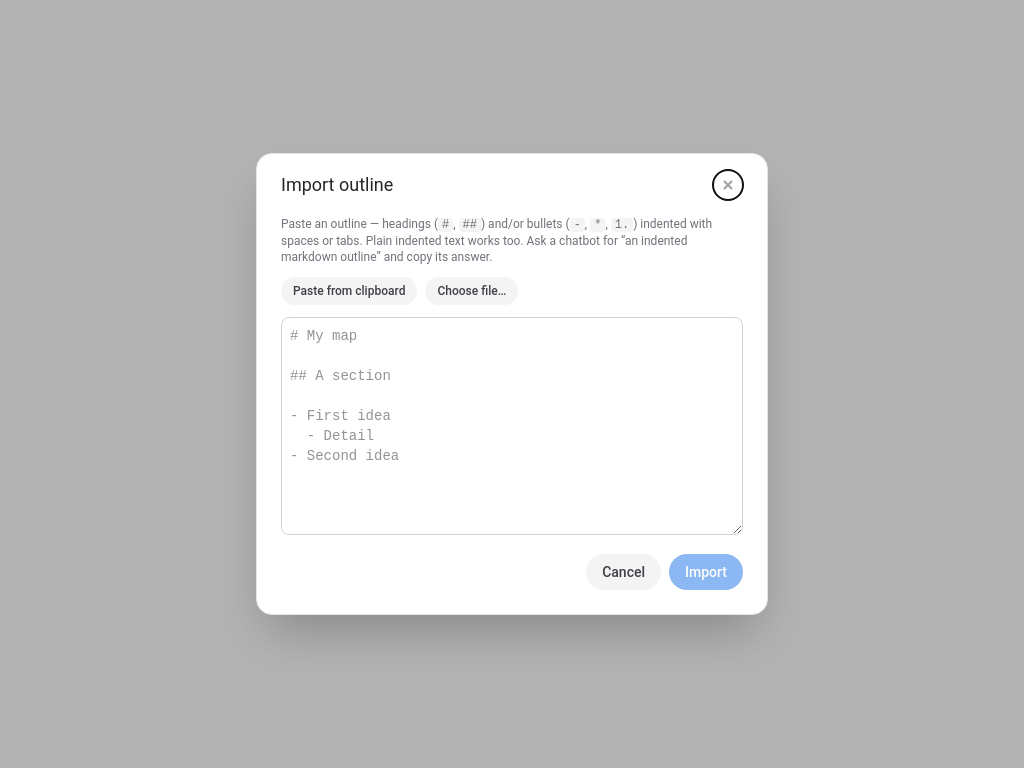
OutlineImportModal › fills the outline from the clipboard and previews what it parsed
Click the button "Paste from clipboard": click(349, 291) 281,277 -> 417,305
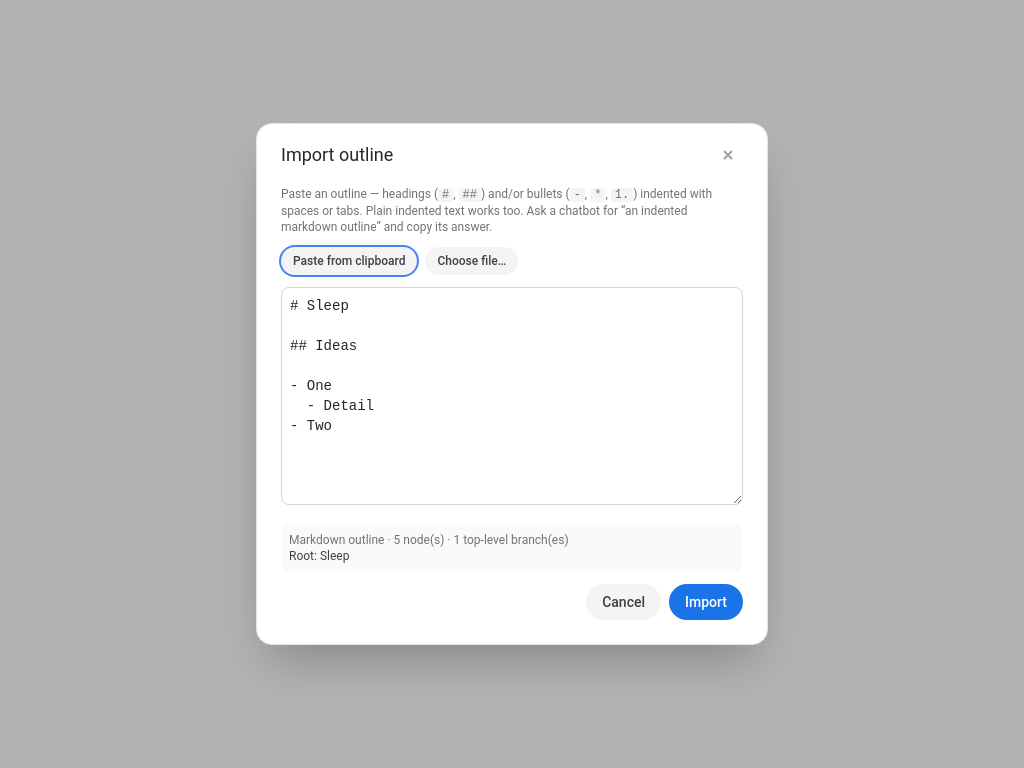
Expected: the text "Markdown outline · 5 node(s) · 1 top-level branch(es)" is shown, 289,533 -> 569,547
Expected: the text "Root: Sleep" is shown, 289,549 -> 349,563
